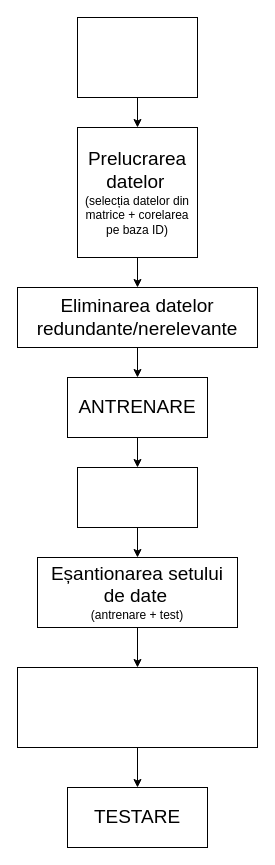
Image size: 275x865. Some labels were removed from this diagram. Each missing label, with the centre of its shape:
Selecția modelului: pixel 137 497
Vizualizarea rezultatelor (RMSE + MAE): pixel 137 707
Încărcarea datelor (testare + antrenare): pixel 137 57
